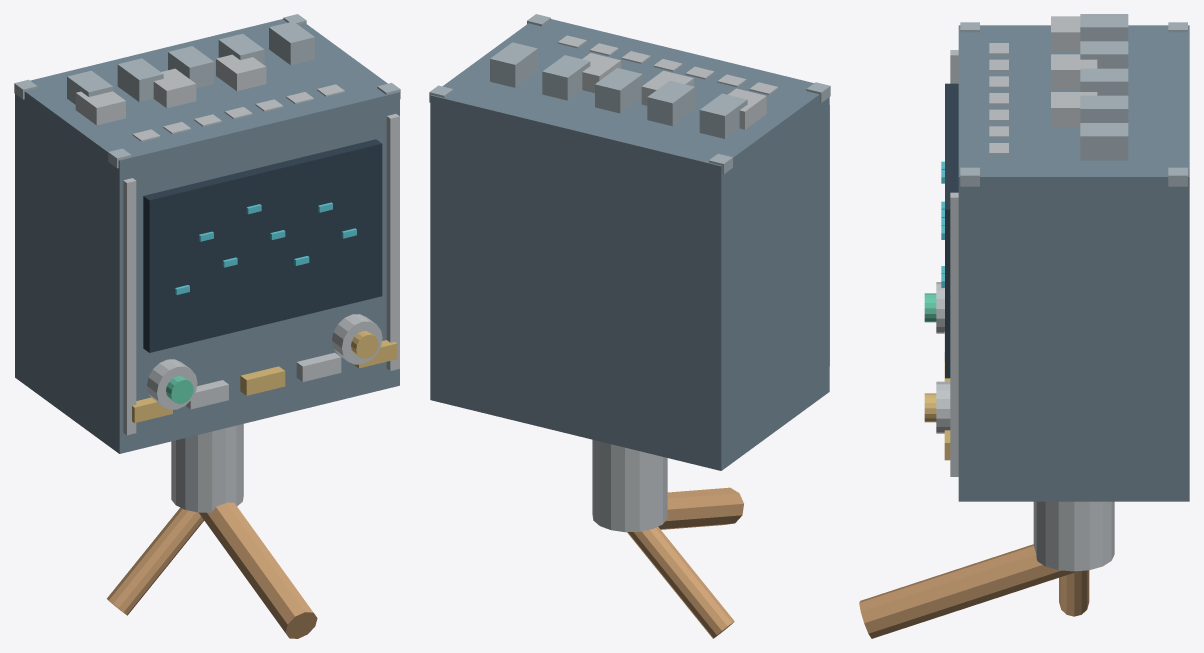
The model's file is 22_L73_SlurryTemperatureSensor.glb.
The picture shows the model from 3 angles, left to right: view 1: azimuth 30°, elevation 25°; view 2: azimuth 150°, elevation 25°; view 3: azimuth 270°, elevation 25°; orthographic projection. The views are drawn at different scales.
Visible parts, largest first — view 1: SlurryTemperatureSensor_Node_0000, SlurryTemperatureSensor_Node_0007, SlurryTemperatureSensor_Node_0034, SlurryTemperatureSensor_Node_0043, SlurryTemperatureSensor_Node_0005, SlurryTemperatureSensor_Node_0006, SlurryTemperatureSensor_Node_0035, SlurryTemperatureSensor_Node_0028, SlurryTemperatureSensor_Node_0023, SlurryTemperatureSensor_Node_0025, SlurryTemperatureSensor_Node_0019, SlurryTemperatureSensor_Node_0017 (+11 smaller); view 2: SlurryTemperatureSensor_Node_0000, SlurryTemperatureSensor_Node_0034, SlurryTemperatureSensor_Node_0035, SlurryTemperatureSensor_Node_0043, SlurryTemperatureSensor_Node_0025, SlurryTemperatureSensor_Node_0028, SlurryTemperatureSensor_Node_0026, SlurryTemperatureSensor_Node_0027, SlurryTemperatureSensor_Node_0024, SlurryTemperatureSensor_Node_0023, SlurryTemperatureSensor_Node_0021, SlurryTemperatureSensor_Node_0022; view 3: SlurryTemperatureSensor_Node_0000, SlurryTemperatureSensor_Node_0043, SlurryTemperatureSensor_Node_0034, SlurryTemperatureSensor_Node_0007, SlurryTemperatureSensor_Node_0006, SlurryTemperatureSensor_Node_0028, SlurryTemperatureSensor_Node_0024, SlurryTemperatureSensor_Node_0027, SlurryTemperatureSensor_Node_0026, SlurryTemperatureSensor_Node_0035, SlurryTemperatureSensor_Node_0022, SlurryTemperatureSensor_Node_0025 (+3 smaller).
Part boxes in pixels (<box>): SlurryTemperatureSensor_Node_0000: <box>15,19,399,453</box>; SlurryTemperatureSensor_Node_0007: <box>143,139,382,352</box>; SlurryTemperatureSensor_Node_0034: <box>171,424,243,512</box>; SlurryTemperatureSensor_Node_0043: <box>199,502,317,638</box>; SlurryTemperatureSensor_Node_0005: <box>123,178,136,435</box>; SlurryTemperatureSensor_Node_0006: <box>386,114,399,370</box>; SlurryTemperatureSensor_Node_0035: <box>107,507,203,615</box>; SlurryTemperatureSensor_Node_0028: <box>269,21,314,65</box>; SlurryTemperatureSensor_Node_0023: <box>216,54,266,90</box>; SlurryTemperatureSensor_Node_0025: <box>117,58,163,102</box>; SlurryTemperatureSensor_Node_0019: <box>332,314,382,364</box>; SlurryTemperatureSensor_Node_0017: <box>147,359,197,409</box>; SlurryTemperatureSensor_Node_0000: <box>430,19,829,470</box>; SlurryTemperatureSensor_Node_0034: <box>592,439,667,532</box>; SlurryTemperatureSensor_Node_0035: <box>627,527,734,638</box>; SlurryTemperatureSensor_Node_0043: <box>658,487,743,529</box>; SlurryTemperatureSensor_Node_0025: <box>647,80,694,126</box>; SlurryTemperatureSensor_Node_0028: <box>490,42,537,87</box>; SlurryTemperatureSensor_Node_0026: <box>595,68,642,113</box>; SlurryTemperatureSensor_Node_0027: <box>542,55,590,100</box>; SlurryTemperatureSensor_Node_0024: <box>699,93,747,138</box>; SlurryTemperatureSensor_Node_0023: <box>582,53,621,92</box>; SlurryTemperatureSensor_Node_0021: <box>728,88,766,129</box>; SlurryTemperatureSensor_Node_0022: <box>641,70,693,105</box>; SlurryTemperatureSensor_Node_0000: <box>958,25,1189,501</box>; SlurryTemperatureSensor_Node_0043: <box>859,544,1078,638</box>; SlurryTemperatureSensor_Node_0034: <box>1033,501,1114,571</box>; SlurryTemperatureSensor_Node_0007: <box>945,83,958,378</box>; SlurryTemperatureSensor_Node_0006: <box>950,192,958,476</box>; SlurryTemperatureSensor_Node_0028: <box>1080,123,1128,160</box>; SlurryTemperatureSensor_Node_0024: <box>1080,14,1128,41</box>; SlurryTemperatureSensor_Node_0027: <box>1080,95,1128,122</box>; SlurryTemperatureSensor_Node_0026: <box>1080,68,1128,95</box>; SlurryTemperatureSensor_Node_0035: <box>1059,570,1089,616</box>; SlurryTemperatureSensor_Node_0022: <box>1051,54,1097,89</box>; SlurryTemperatureSensor_Node_0025: <box>1080,41,1128,68</box>.
Size of the model in its own units: 0.6272 by 1.12 by 0.5719.
